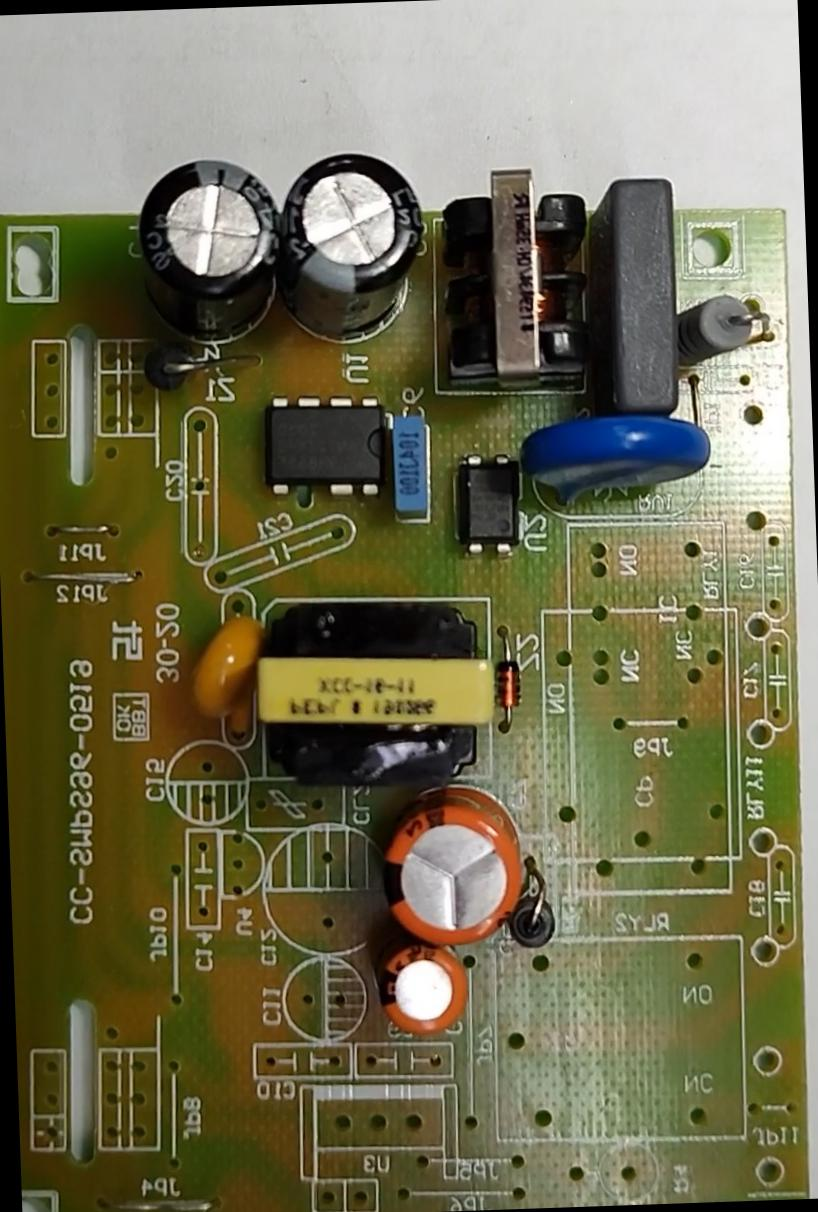Cap1: (353, 779, 541, 960)
Cap2: (362, 928, 488, 1054)
Cap3: (252, 130, 439, 353)
Cap4: (125, 150, 298, 351)
MOSFET: (254, 391, 396, 514)
Mov: (510, 397, 728, 519)
Resistor: (660, 282, 771, 374)
Transformer: (236, 585, 510, 798), (424, 148, 618, 389)
